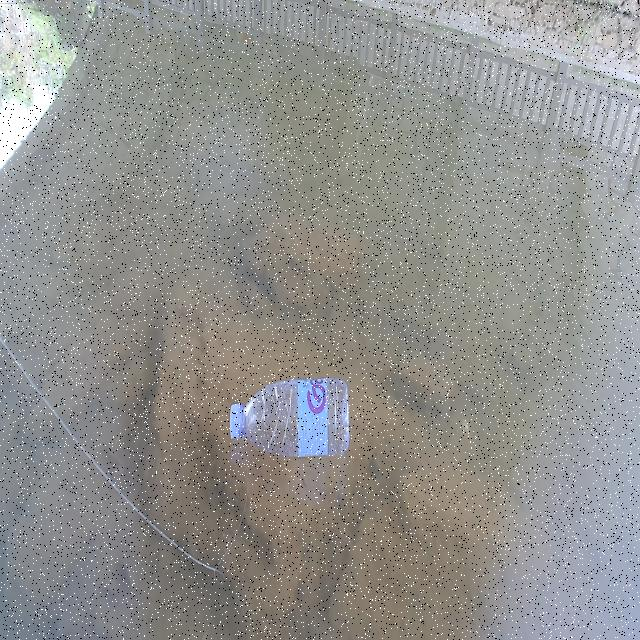Bottle: (227, 375, 351, 462)
